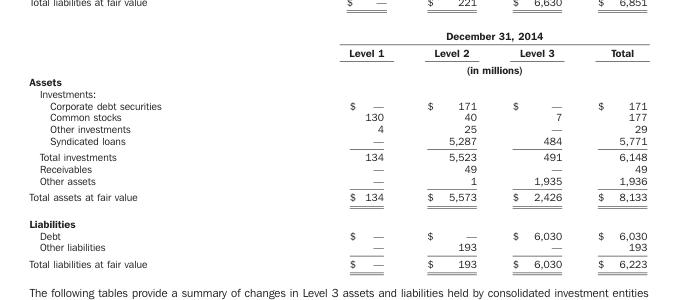table: (28, 28, 646, 269)
table column: (28, 28, 254, 269), (254, 28, 404, 269), (404, 28, 493, 269), (493, 28, 579, 269), (579, 28, 646, 269)
table column header: (28, 28, 646, 75)
table projected row header: (28, 209, 646, 228), (28, 75, 646, 87), (28, 87, 646, 99)
table row: (28, 188, 646, 209), (28, 209, 646, 228), (28, 43, 646, 60), (28, 28, 646, 43), (28, 60, 646, 75), (28, 254, 646, 269), (28, 134, 646, 148), (28, 148, 646, 162), (28, 174, 646, 188), (28, 240, 646, 254), (28, 75, 646, 87), (28, 87, 646, 99), (28, 110, 646, 122), (28, 122, 646, 134), (28, 162, 646, 174), (28, 228, 646, 240), (28, 99, 646, 110)
table spanning cell: (254, 28, 646, 43), (254, 60, 646, 75)
